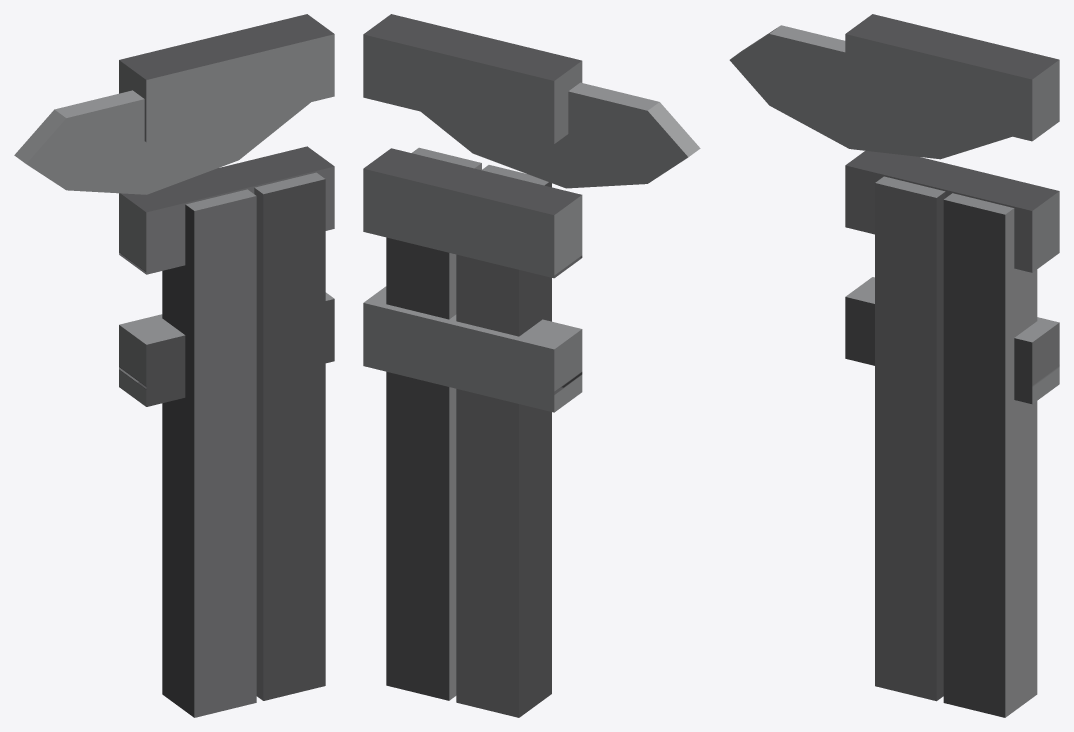
3 views of the same model, side by side, from view 1: azimuth 30°, elevation 25°; view 2: azimuth 150°, elevation 25°; view 3: azimuth 330°, elevation 25° (orthographic). The views are drawn at different scales.
Bounding box in the file's own units: 0.2669 × 0.5325 × 0.055.
